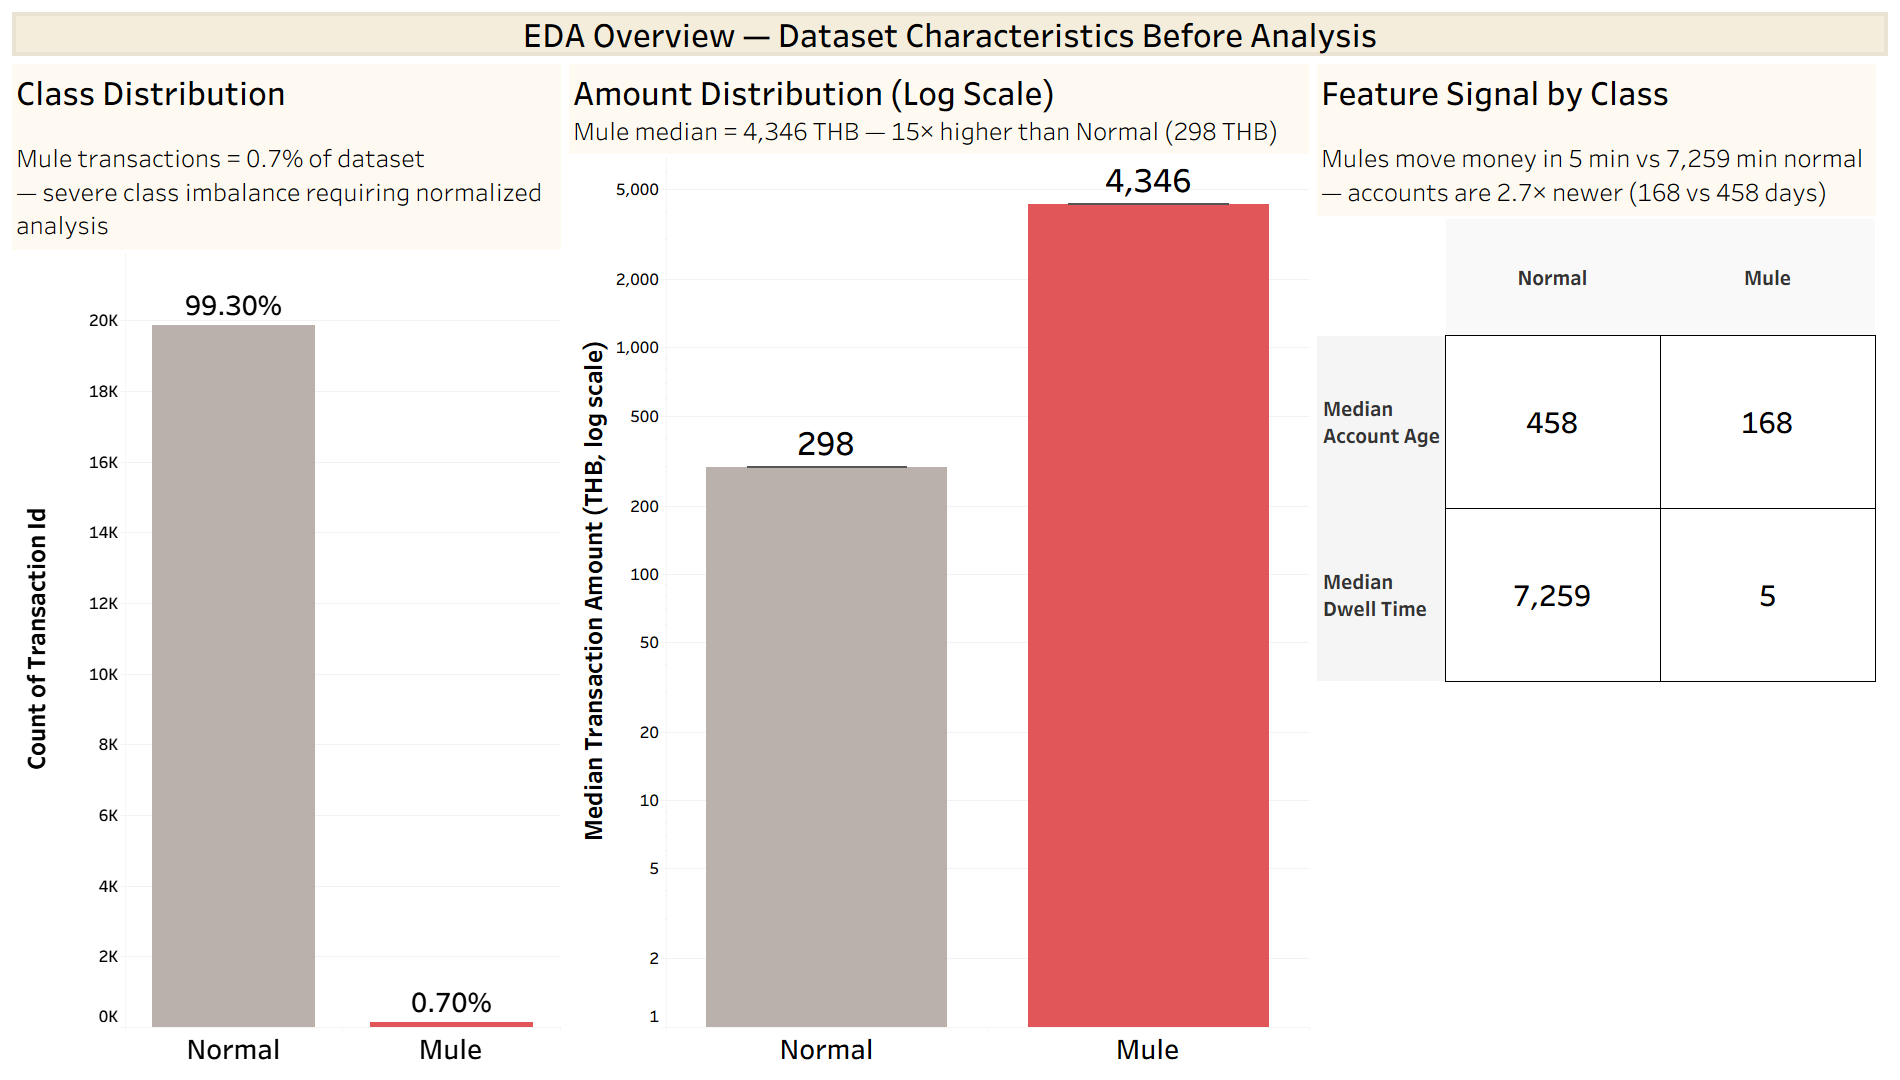

This screenshot's page, from the dashboard's own definition file:
{"tool":"tableau","page":{"name":"EDA Dashboard","canvas":[1900,1080],"ordinal":1},"visuals":[{"type":"title","box":[8,8,1884,52]},{"type":"worksheet","title":"EDA-imbalance","mark":"Bar","rows":["transaction_id"],"cols":["is_mule_tx"],"box":[8,60,557.3,1012]},{"type":"worksheet","title":"EDA-Amount Dist","mark":"Bar","rows":["amount"],"cols":["is_mule_tx"],"box":[565.3,60,747.7,1012]},{"type":"worksheet","title":"EDA- Correlation","mark":"Square","cols":["is_mule_tx"],"box":[1313,60,579,779]}]}

Visuals, with their boxes in screenshot pixels (x1, y1, x2, y2), scaled from the page's 1900x1080 canvas onto the 1900x1080 screenshot:
title: 8,8,1892,60
"EDA-imbalance" worksheet (Bar marks): 8,60,565,1072
"EDA-Amount Dist" worksheet (Bar marks): 565,60,1313,1072
"EDA- Correlation" worksheet (Square marks): 1313,60,1892,839
